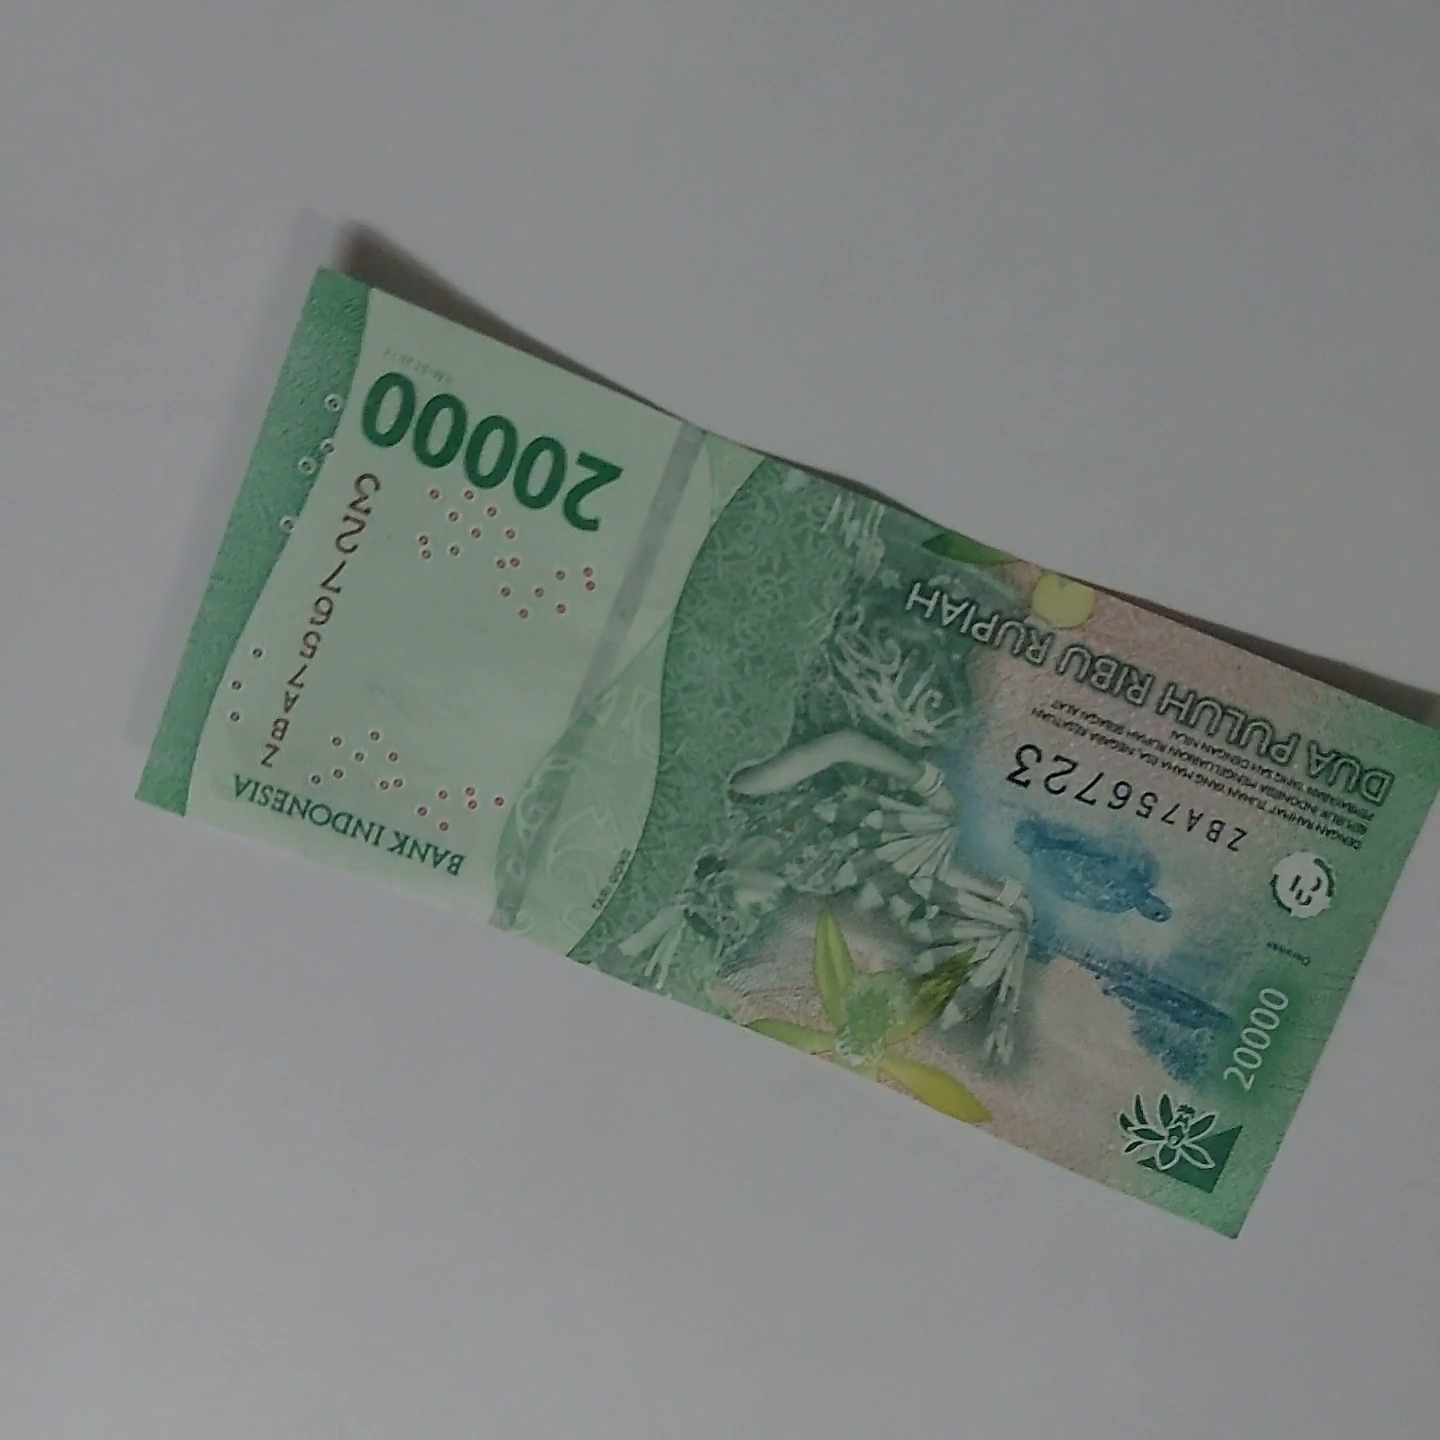20k: (149, 195, 1440, 1240)
